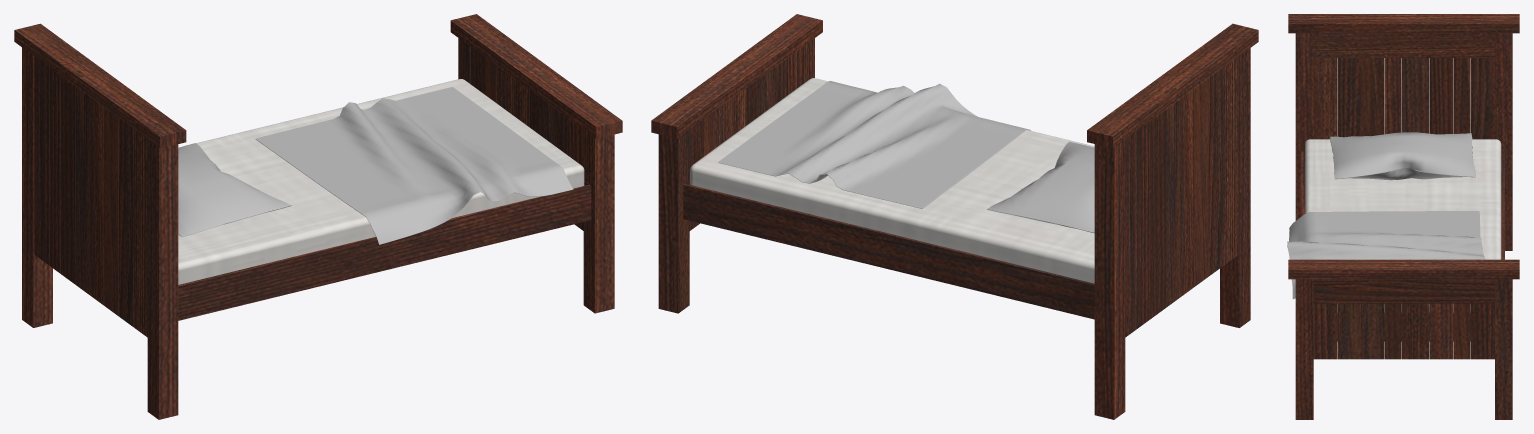
Rendered from bed.fbx.
3 renders of one model, left to right at view 1: azimuth 30°, elevation 25°; view 2: azimuth 150°, elevation 25°; view 3: azimuth 270°, elevation 25°, orthographic. The views are drawn at different scales.
Parts seen in each view (by area): view 1: polySurface3573, polySurface3390, polySurface3584, polySurface3595; view 2: polySurface3573, polySurface3390, polySurface3584, polySurface3595; view 3: polySurface3573, polySurface3584, polySurface3390, polySurface3595.
Boxes of the visible parts, left/top/right/bottom form: polySurface3573: left=14, top=14, right=622, bottom=419; polySurface3390: left=255, top=87, right=573, bottom=244; polySurface3584: left=178, top=79, right=584, bottom=284; polySurface3595: left=178, top=143, right=291, bottom=236; polySurface3573: left=651, top=14, right=1258, bottom=419; polySurface3390: left=718, top=81, right=1030, bottom=208; polySurface3584: left=690, top=78, right=1094, bottom=283; polySurface3595: left=987, top=141, right=1094, bottom=232; polySurface3573: left=1288, top=14, right=1519, bottom=419; polySurface3584: left=1305, top=139, right=1501, bottom=312; polySurface3390: left=1287, top=211, right=1484, bottom=299; polySurface3595: left=1330, top=132, right=1475, bottom=180.
Size of the model in its own units: 319 by 190 by 175.
Materials: 3 (2 with a texture image).
